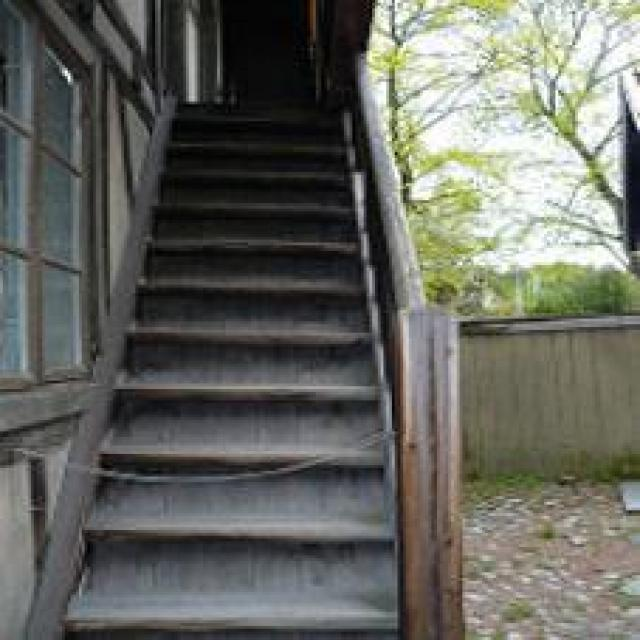upstair: (46, 179, 416, 621)
